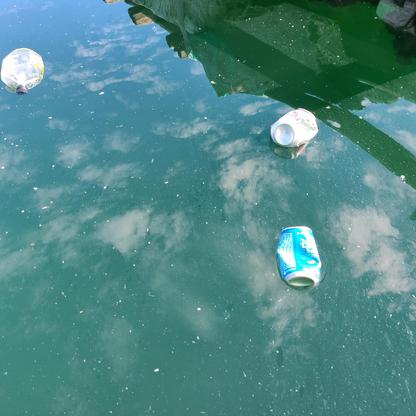can: (276, 226, 321, 286), (270, 108, 318, 146)
